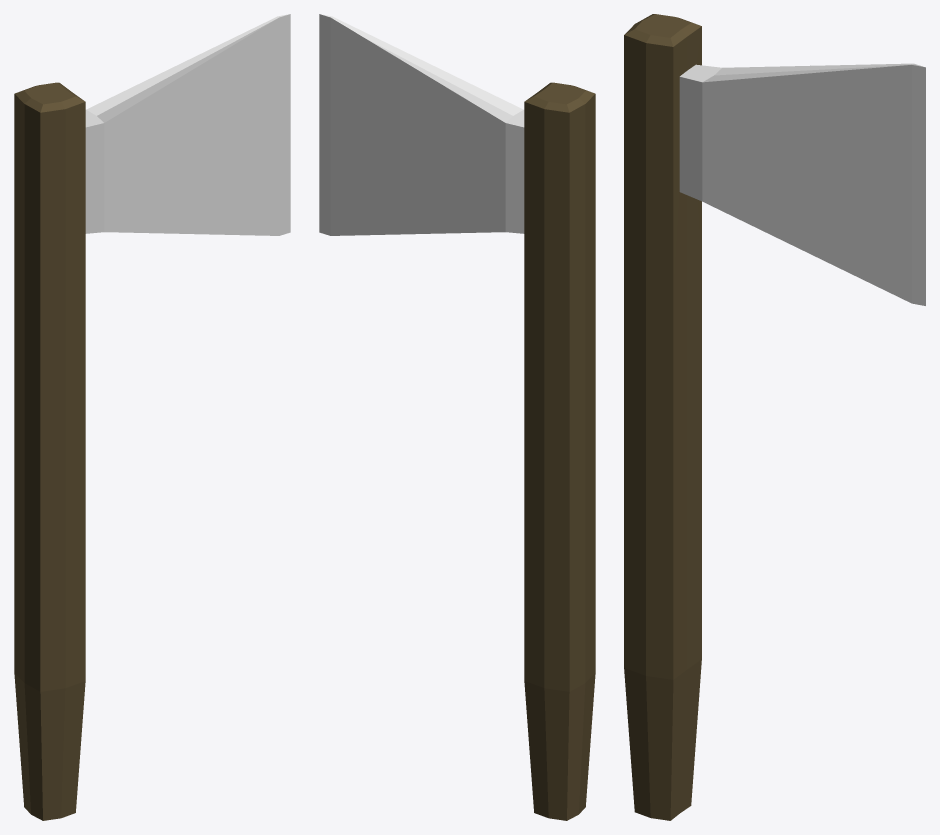
The model's file is Axe.fbx.
The picture shows the model from 3 angles, left to right: view 1: azimuth 30°, elevation 25°; view 2: azimuth 150°, elevation 25°; view 3: azimuth 330°, elevation 25°; orthographic projection. The views are drawn at different scales.
Parts seen in each view (by area): view 1: Cube; view 2: Cube; view 3: Cube.
Boxes of the visible parts, x1=… form: Cube: x1=14, y1=14, x2=290, y2=820; Cube: x1=319, y1=14, x2=595, y2=820; Cube: x1=624, y1=14, x2=925, y2=820.
Size of the model in its own units: 37.91 by 100 by 7.68.
